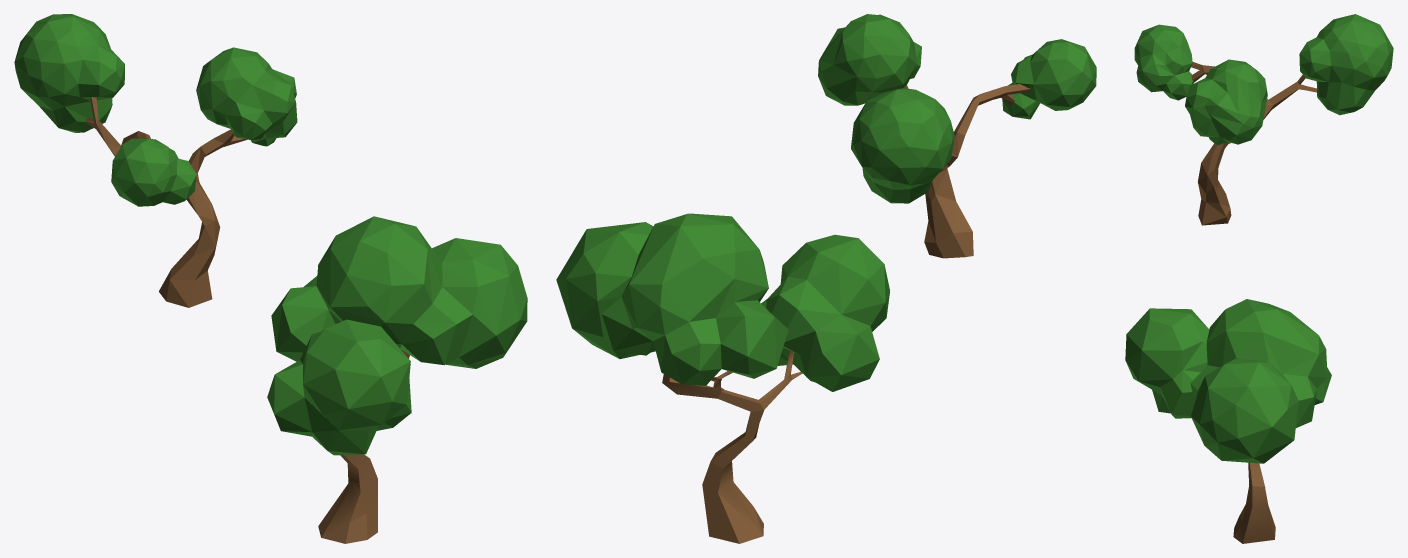
Rendered from trees.fbx.
The picture shows the model from 3 angles, left to right: view 1: azimuth 30°, elevation 25°; view 2: azimuth 150°, elevation 25°; view 3: azimuth 270°, elevation 25°; orthographic projection. The views are drawn at different scales.
Parts seen in each view (by area): view 1: LowPoly Tree 07, LowPoly Tree 03; view 2: LowPoly Tree 07, LowPoly Tree 03; view 3: LowPoly Tree 07, LowPoly Tree 03.
Part boxes in pixels (x1,y1,x2,y2): LowPoly Tree 07: (267, 216, 527, 543); LowPoly Tree 03: (14, 14, 297, 307); LowPoly Tree 07: (556, 213, 889, 543); LowPoly Tree 03: (818, 14, 1096, 258); LowPoly Tree 07: (1125, 299, 1331, 543); LowPoly Tree 03: (1134, 14, 1393, 225).
Size of the model in its own units: 693 by 761 by 432.
